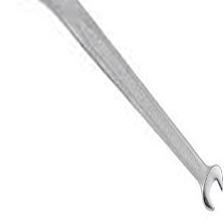Wrench: (38, 1, 224, 214)
